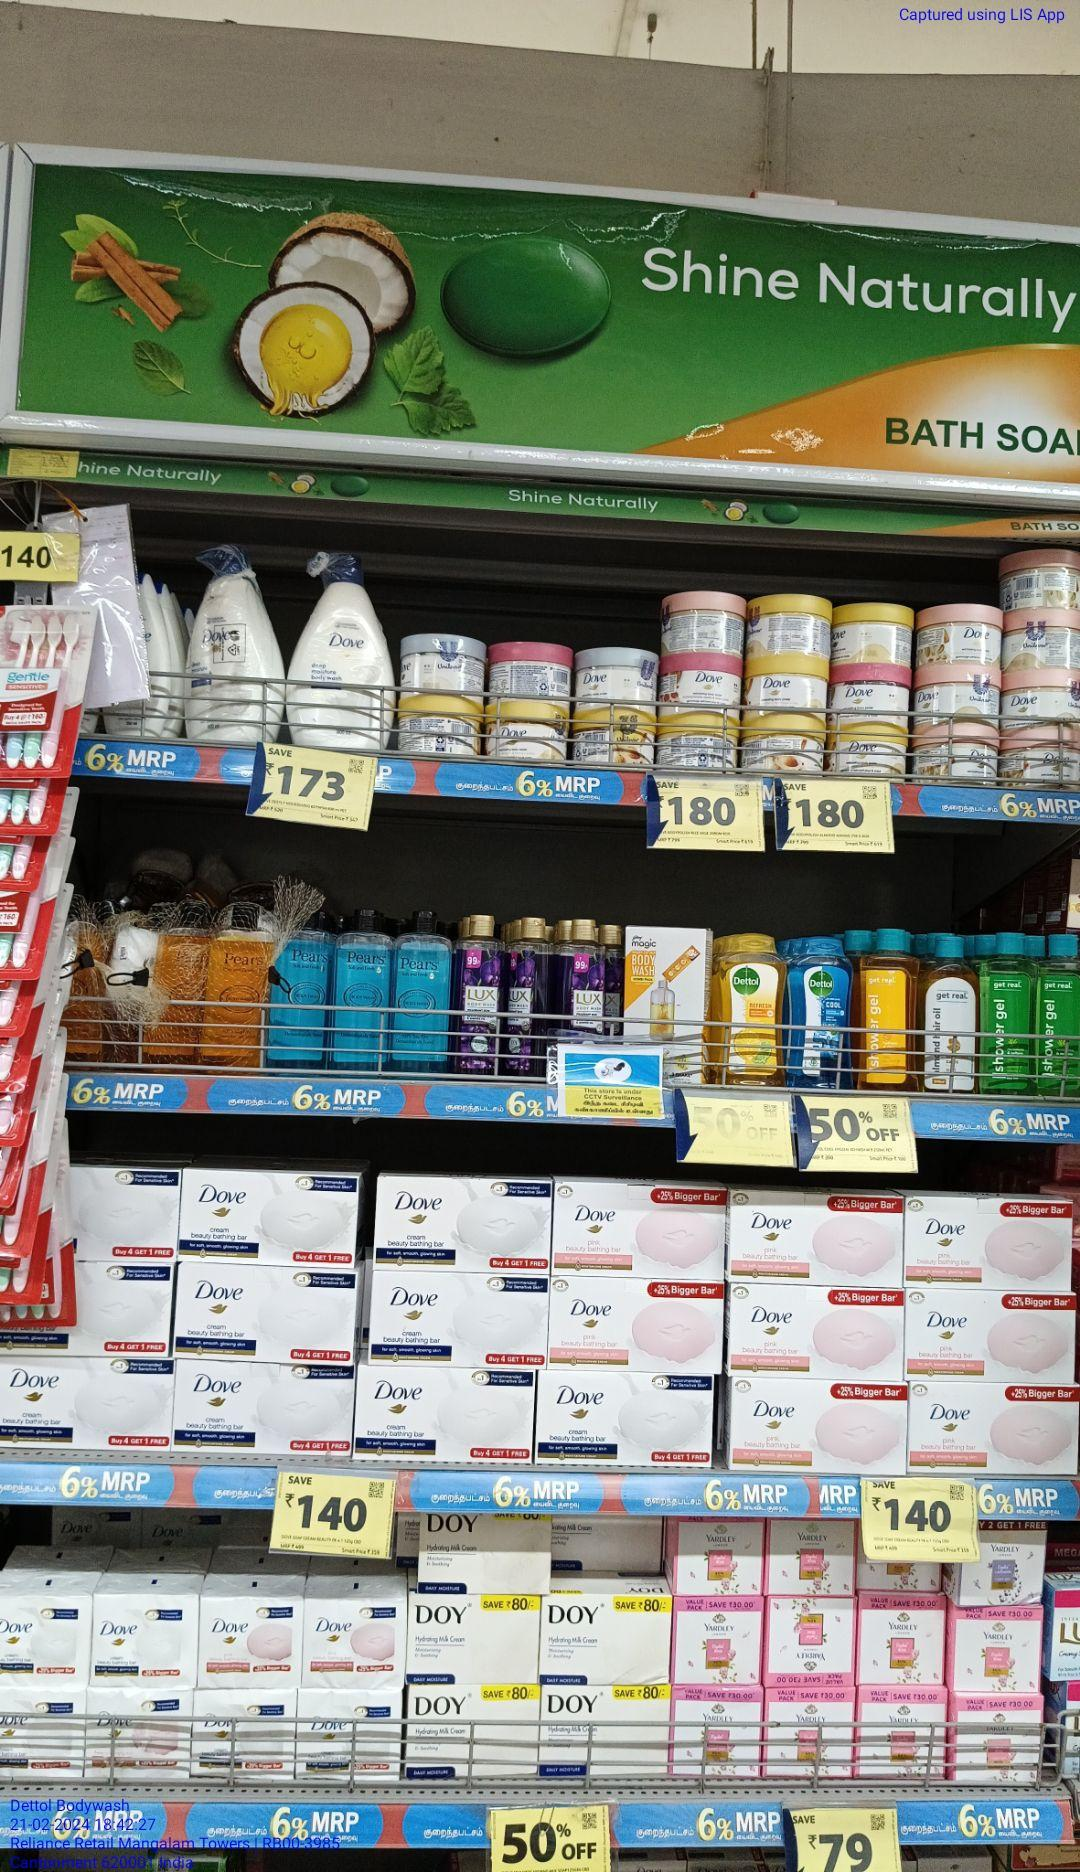Dettol_Bodywash_Cool: (787, 939, 852, 1090)
Dettol_Bodywash_Refresh: (723, 931, 784, 1090)
Lux_Black_Orchid_Scent_and_Juniper_Oil_Body_Wash_245ML: (455, 913, 504, 1072), (507, 914, 549, 1077), (562, 918, 607, 1040)
Pears_Pure_Glycerin_and_Mint_Extracts_Body_Wash_250ML: (271, 904, 328, 1076), (333, 910, 391, 1076), (395, 912, 450, 1076)
